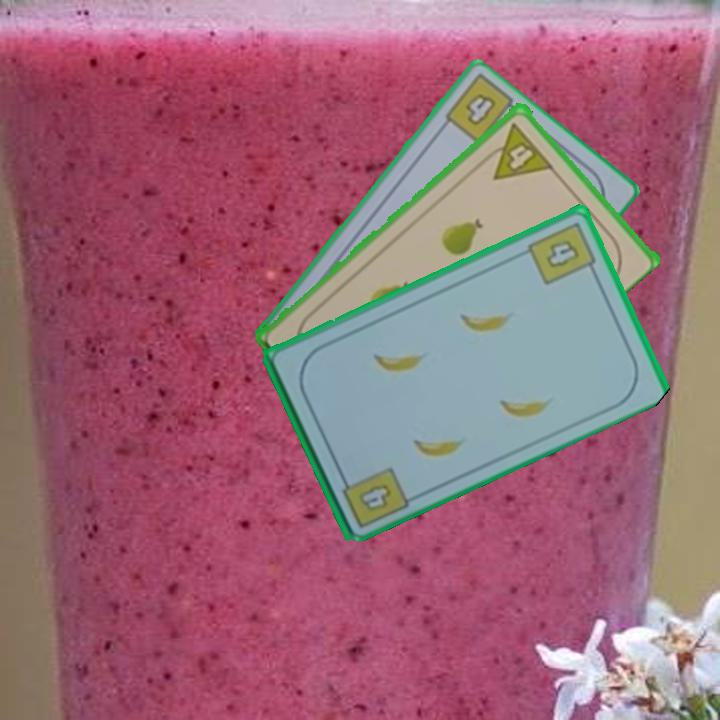4b: (523, 218, 600, 288), (336, 463, 411, 531), (461, 89, 499, 129)
4p: (477, 118, 555, 183)
